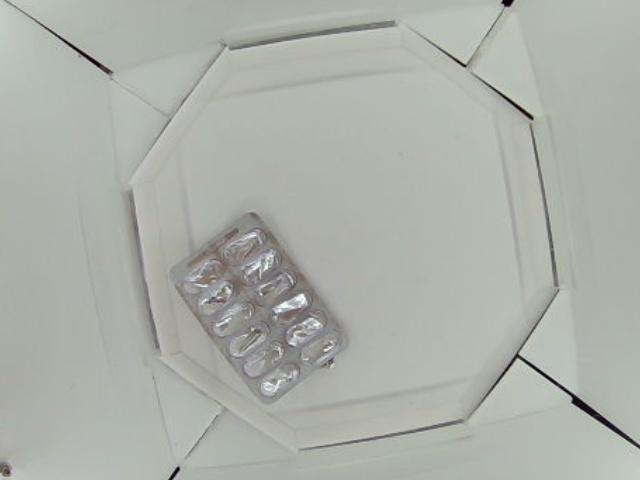Medicine: (168, 212, 344, 403)
